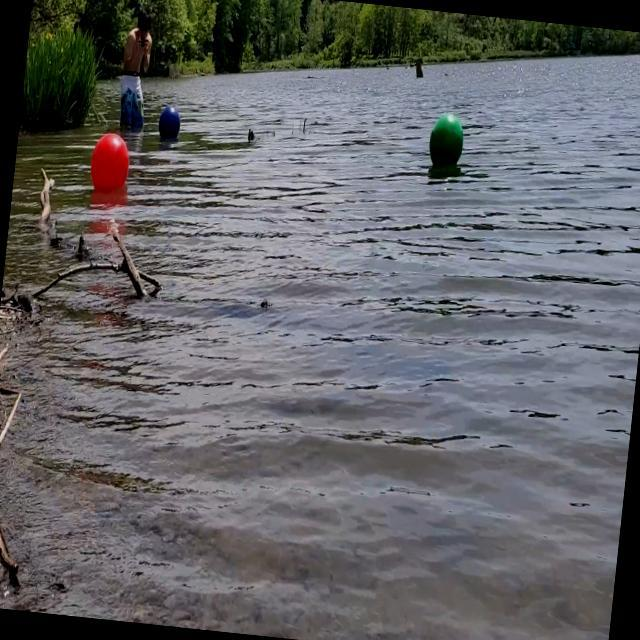buoy: (85, 127, 134, 194), (423, 110, 467, 184), (155, 103, 182, 147)
